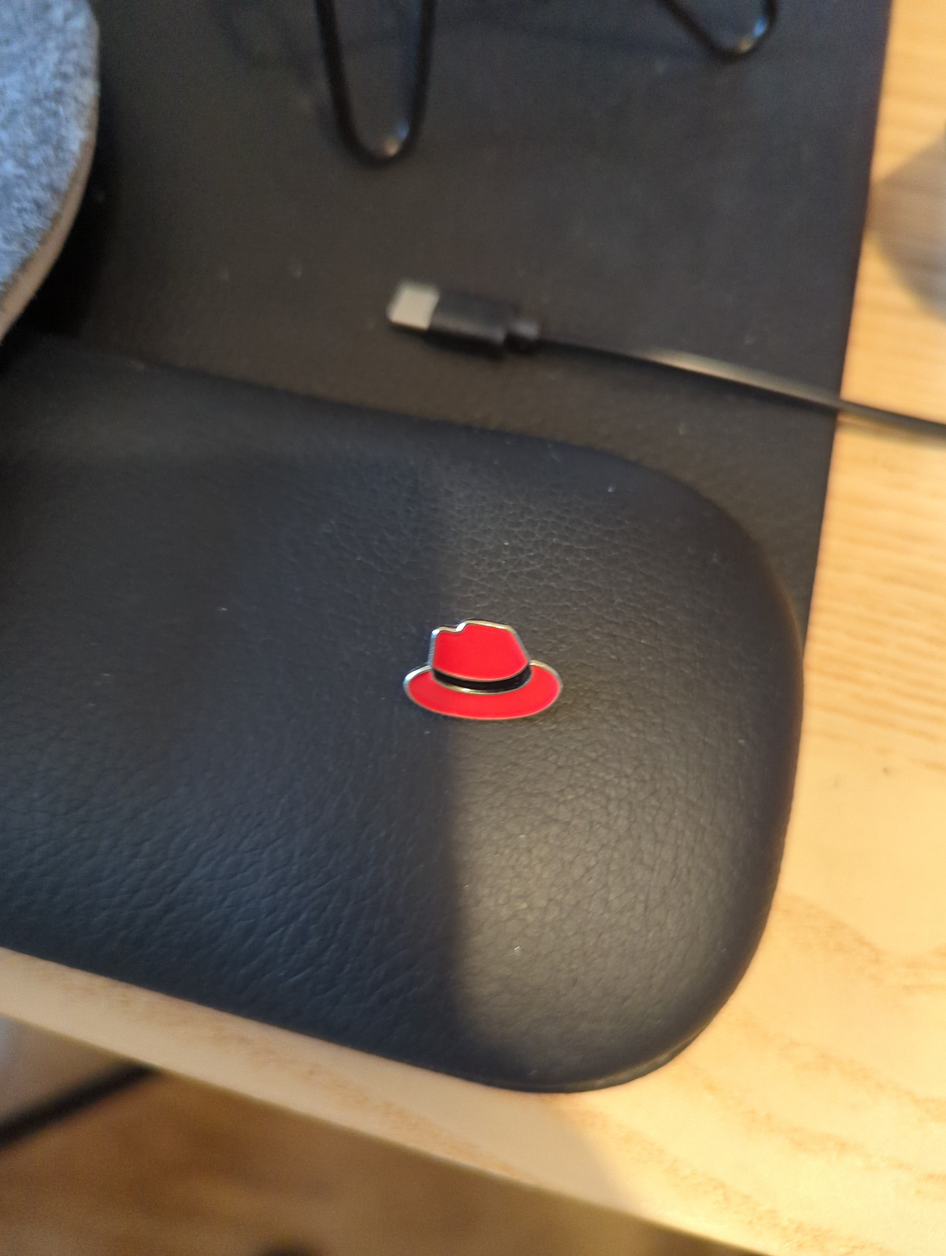Red-Hat: (332, 577, 656, 801)
